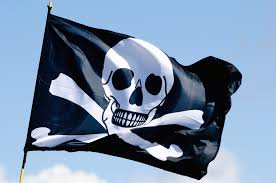Jolly Roger Flag: (24, 11, 241, 180)
